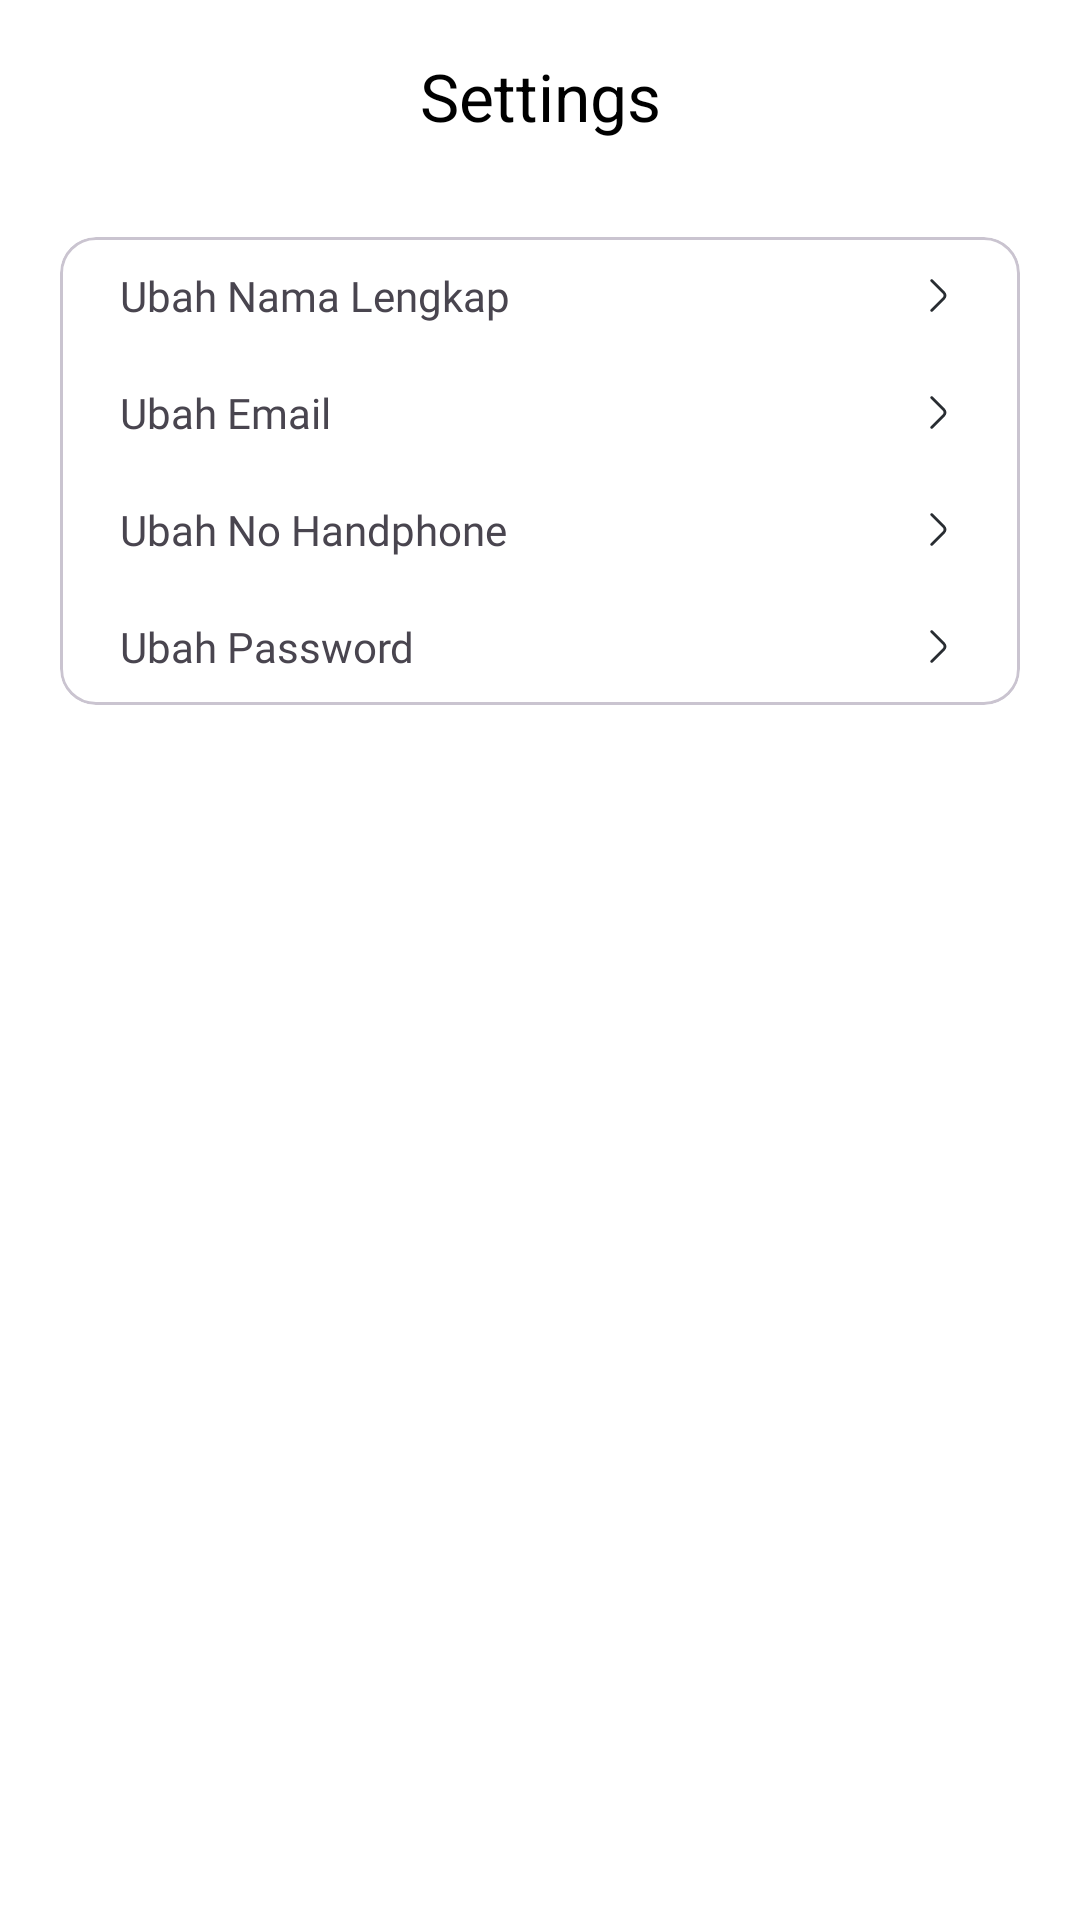

Named icons in this screenshot (1080px x 1920px) and their bounding boxes, (x1, y1, x2, y2):
arrow right: (930, 279, 947, 312), (930, 396, 947, 429), (930, 513, 947, 546), (930, 630, 947, 663)
